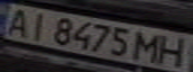4: (69, 19, 93, 52)
5: (109, 25, 136, 58)
7: (87, 21, 112, 54)
8: (48, 15, 75, 47)
A: (0, 6, 36, 37)
H: (154, 35, 190, 69)
I: (21, 10, 54, 42)
M: (133, 29, 166, 64)
